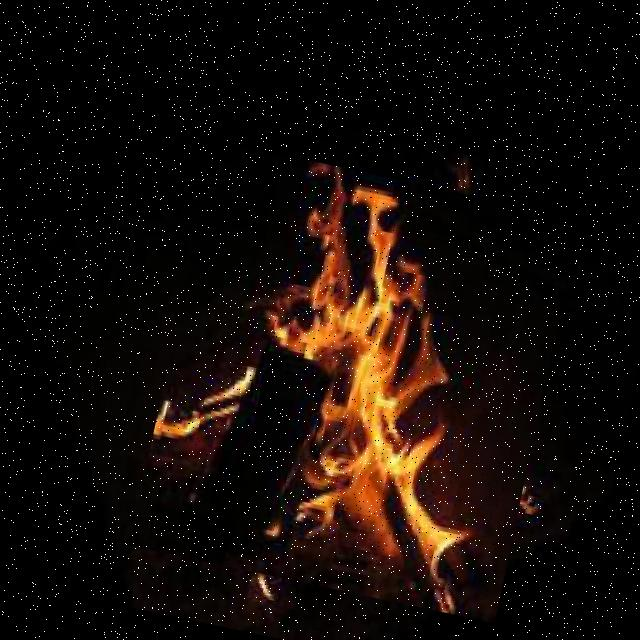fire: (129, 140, 580, 623)
